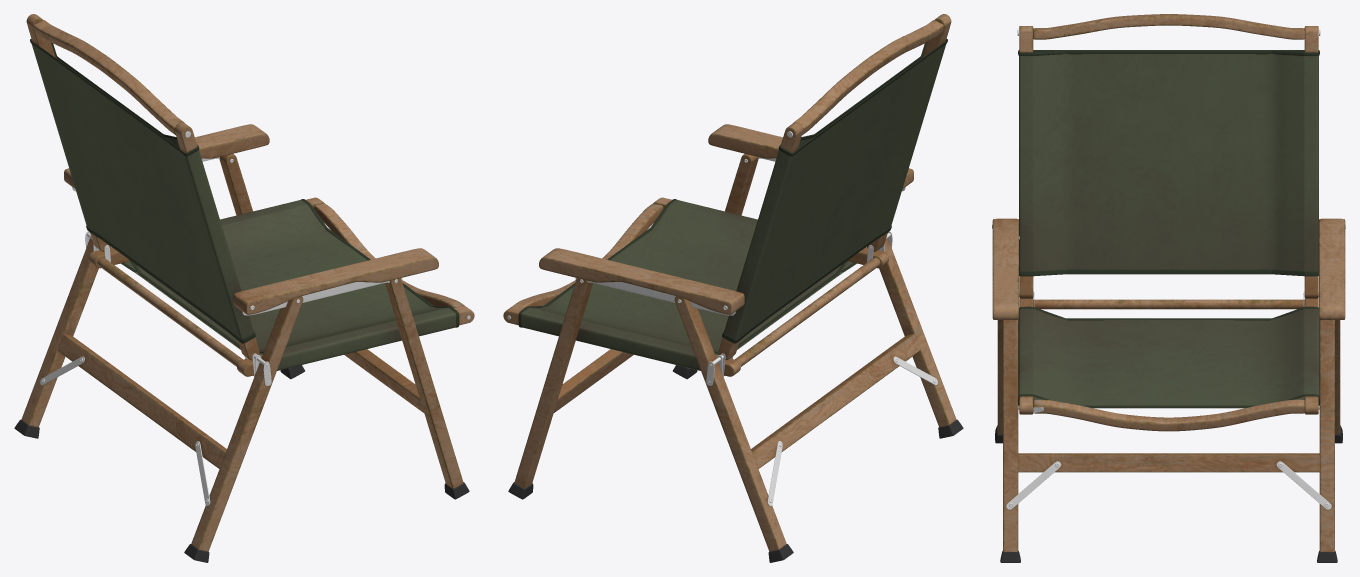
File: chair.obj
The picture shows the model from 3 angles, left to right: view 1: azimuth 30°, elevation 25°; view 2: azimuth 150°, elevation 25°; view 3: azimuth 270°, elevation 25°; orthographic projection. The views are drawn at different scales.
Parts seen in each view (by area): view 1: chair_geo; view 2: chair_geo; view 3: chair_geo.
Part boxes in pixels (x1,y1,x2,y2): chair_geo: [14, 14, 474, 562]; chair_geo: [503, 14, 963, 562]; chair_geo: [992, 14, 1345, 562].
Bounding box in the file's own units: 9.83 × 13.93 × 10.54.
